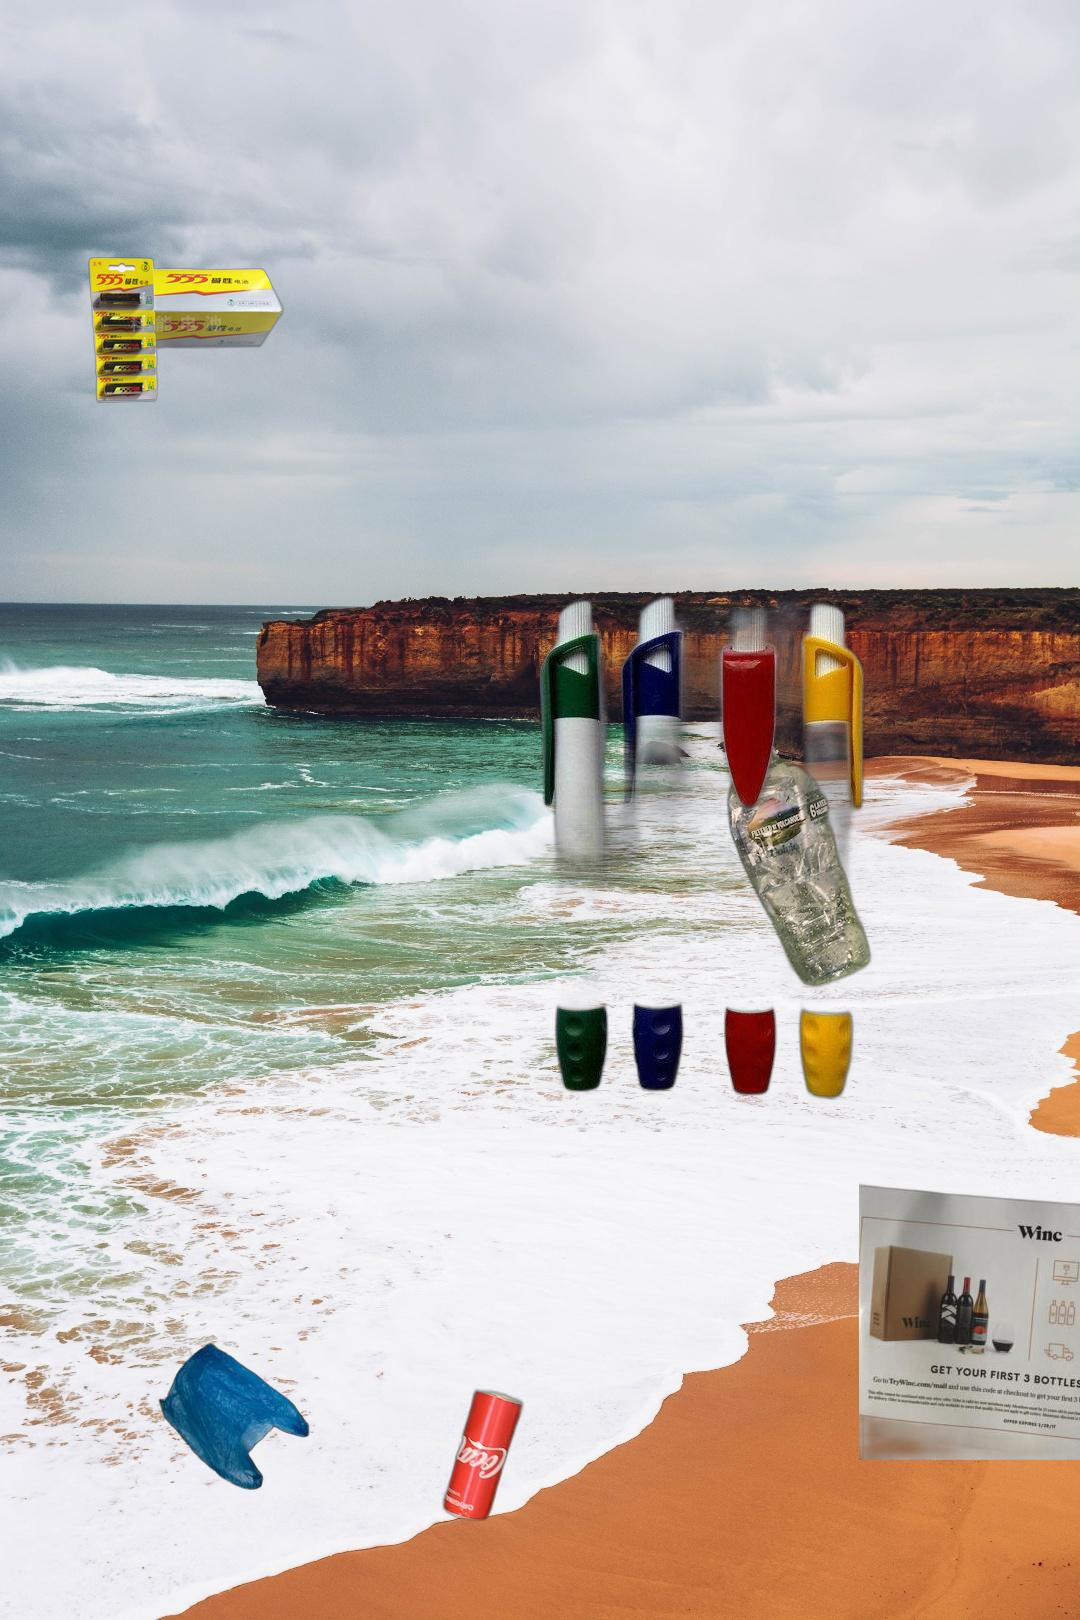battery: (86, 256, 290, 406)
metal-cans: (439, 1385, 526, 1526)
paper: (859, 1180, 1080, 1460)
penholder: (454, 560, 923, 1132)
plastic-bag: (155, 1340, 312, 1493)
plastic-bottles: (723, 724, 875, 993)
